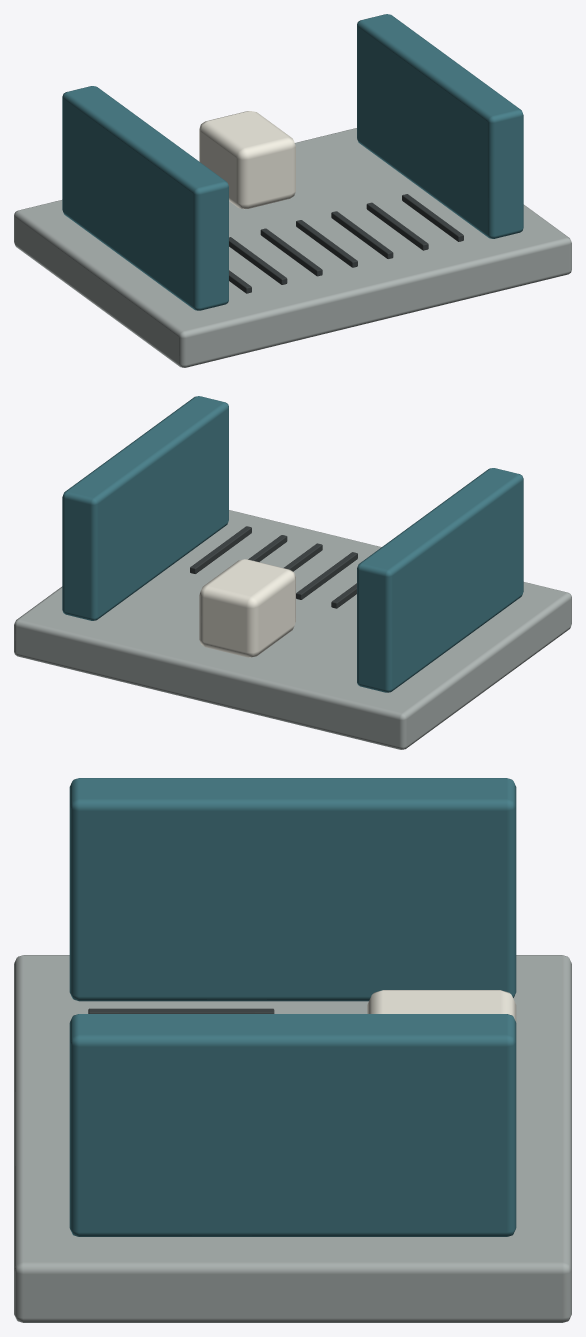
The model's file is optician-and-optical-lens-workshop-optician-and-optica-ea57ac8e__31702.glb.
3 renders of one model, top to bottom at view 1: azimuth 30°, elevation 25°; view 2: azimuth 150°, elevation 25°; view 3: azimuth 270°, elevation 25°, orthographic. The views are drawn at different scales.
Visible parts, largest first — view 1: optician-and-optical-lens-workshop-spectacle-alignment-gauge (×4); view 2: optician-and-optical-lens-workshop-spectacle-alignment-gauge (×4); view 3: optician-and-optical-lens-workshop-spectacle-alignment-gauge (×4).
Boxes of the visible parts, box(x1,y1,x2,y2) form: optician-and-optical-lens-workshop-spectacle-alignment-gauge (×4): box(14, 14, 571, 367); optician-and-optical-lens-workshop-spectacle-alignment-gauge (×4): box(14, 396, 571, 749); optician-and-optical-lens-workshop-spectacle-alignment-gauge (×4): box(14, 778, 571, 1322).
Size of the model in its own units: 0.2 by 0.078 by 0.15.
